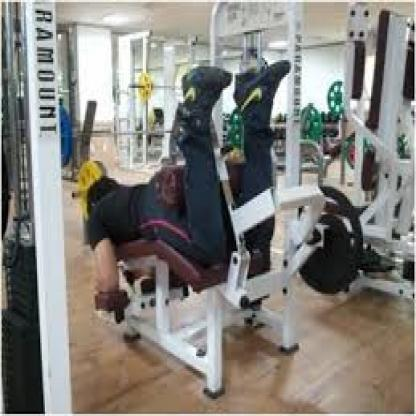reg curl machine: (73, 61, 321, 395)
